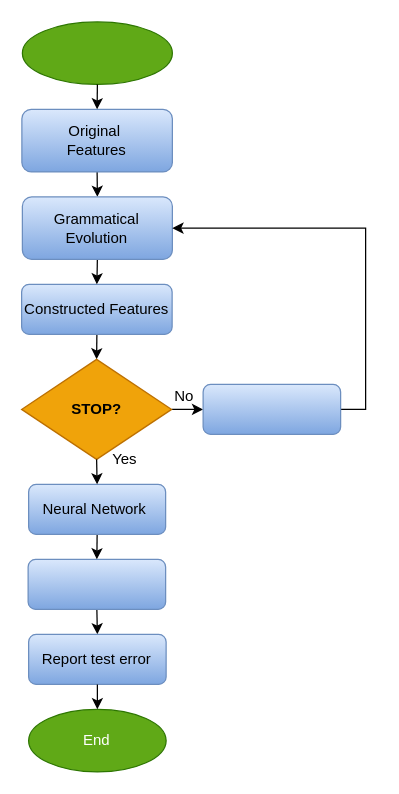
This 399x794 diagram has some shape labels left out. Here are the shapes that lost their labels. From the top down, the centre of each, then its label:
At pixel 96 52: "Start".
At pixel 271 408: "RBF Model".
At pixel 96 583: "Feature Evaluation Step".
